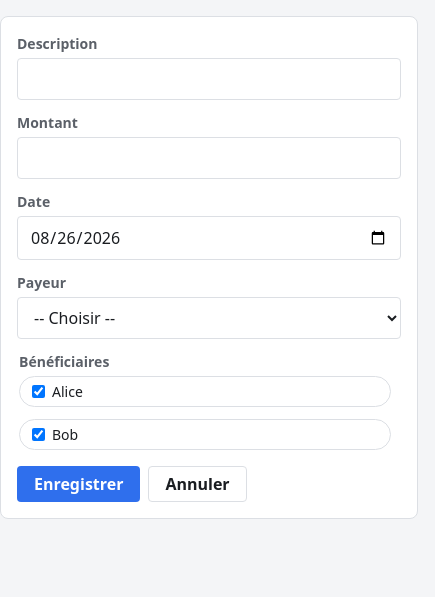
Test: ExpenseForm › affiche le message de champ sous le bon input en cas de 400 avec fieldErrors
In the field labelled "Description": x=209, y=79 x1=17 y1=58 x2=401 y2=100, type "Restaurant"
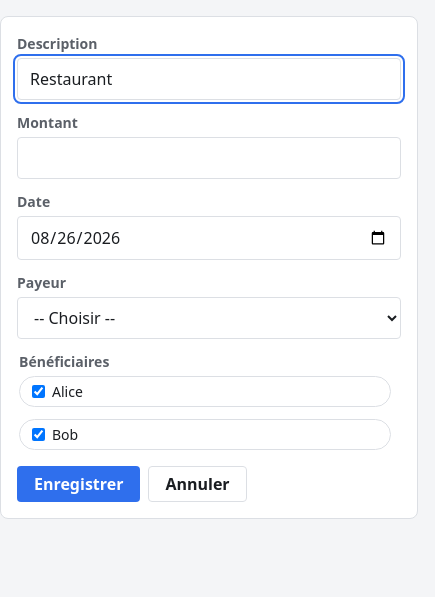
In the number field labelled "Montant": x=209, y=158 x1=17 y1=137 x2=401 y2=179, type "30"
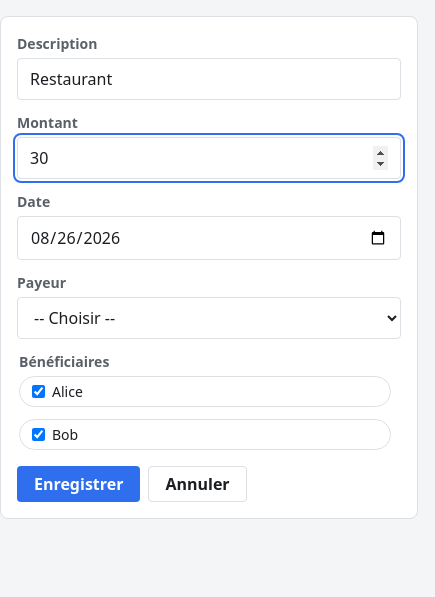
Select "Alice" in the dropdown labelled "Payeur": x=209, y=318 x1=17 y1=297 x2=401 y2=339
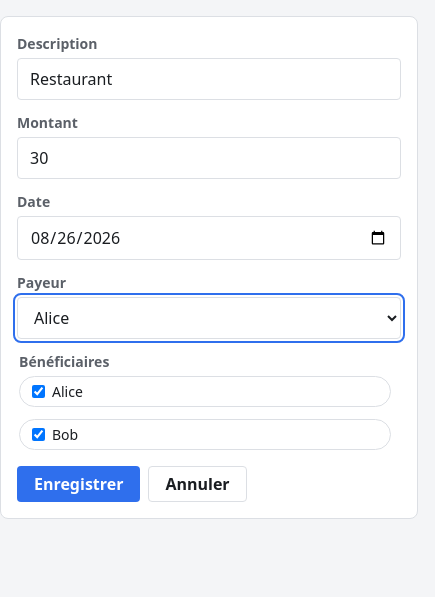
Click the button "Enregistrer": x=79, y=484 x1=17 y1=466 x2=140 y2=502
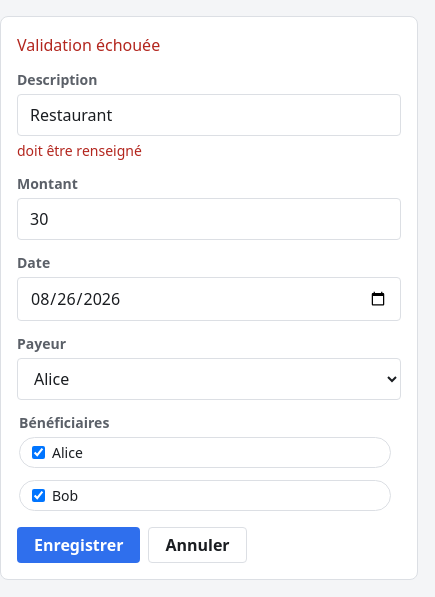
Expected: the text "doit être renseigné" is shown, x1=17 y1=141 x2=142 y2=160
